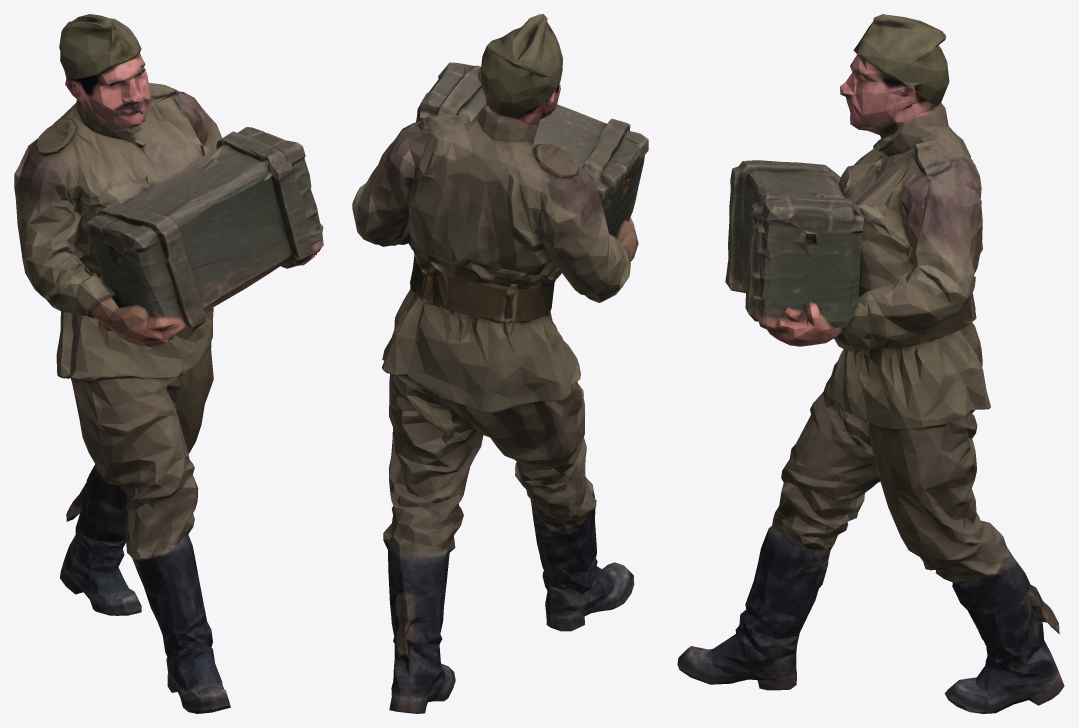
Rendered from walk_su_crate_a.glb.
3 views of the same model, side by side, from view 1: azimuth 30°, elevation 25°; view 2: azimuth 150°, elevation 25°; view 3: azimuth 270°, elevation 25° (orthographic). The views are drawn at different scales.
Visible parts, largest first — view 1: geometry_0; view 2: geometry_0; view 3: geometry_0.
Boxes of the visible parts, x1,y1,x2,y2 form: geometry_0: (14, 14, 323, 713); geometry_0: (352, 14, 648, 713); geometry_0: (677, 14, 1064, 713).
Size of the model in its own units: 0.402 by 1 by 0.5302.
Materials: 1 (1 with a texture image).
